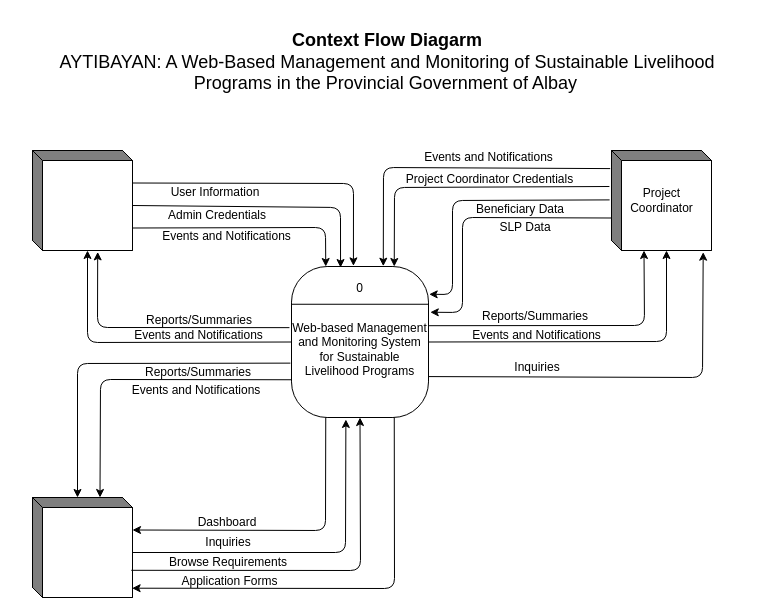
Image size: 774x615. Some labels were removed from this diagram. The box of each missing label's shape, as (x1, y1, x2, y2) in pixels:
Admin: (32, 150, 132, 250)
Basic User: (32, 496, 132, 598)
